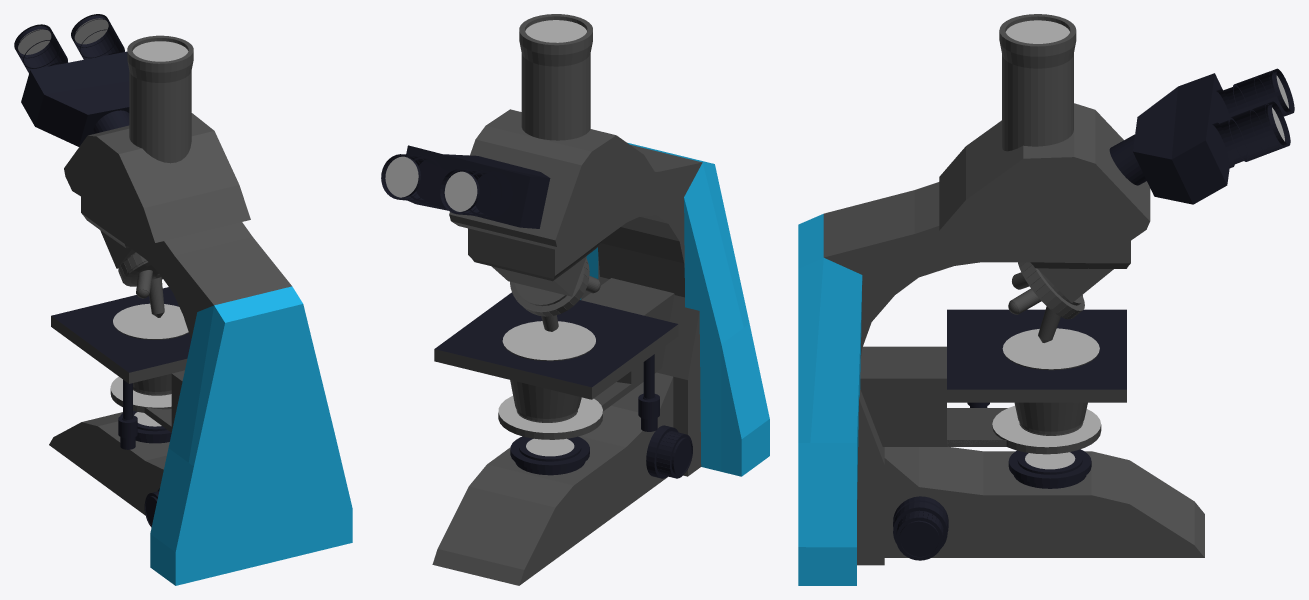
Rendered from microcospio.fbx.
The picture shows the model from 3 angles, left to right: view 1: azimuth 30°, elevation 25°; view 2: azimuth 150°, elevation 25°; view 3: azimuth 270°, elevation 25°; orthographic projection. The views are drawn at different scales.
Visible parts, largest first — view 1: Cube, Plane, Cube.001, Cube.002, Cylinder.003, Cylinder, Cube.003; view 2: Cube, Cube.001, Plane, Cube.002, Cylinder, Cylinder.004, Cylinder.003; view 3: Cube, Cube.001, Plane, Cylinder.004, Cube.002, Cylinder.
Boxes of the visible parts, x1,y1,x2,y2 form: Cube: (49, 35, 352, 585); Plane: (14, 14, 129, 146); Cube.001: (51, 287, 191, 432); Cube.002: (100, 230, 162, 286); Cylinder.003: (118, 380, 137, 449); Cylinder: (120, 411, 171, 443); Cube.003: (149, 277, 164, 317); Cube: (432, 14, 769, 585); Cube.001: (434, 278, 678, 439); Plane: (381, 145, 550, 228); Cube.002: (492, 256, 589, 316); Cylinder: (510, 436, 589, 475); Cylinder.004: (646, 425, 692, 478); Cylinder.003: (638, 354, 659, 431); Cube: (798, 14, 1204, 585); Cube.001: (860, 309, 1126, 454); Plane: (1109, 68, 1294, 204); Cylinder.004: (893, 496, 948, 560); Cube.002: (1018, 262, 1113, 319); Cylinder: (1008, 449, 1091, 488).
Bounding box in the file's own units: 4101 × 9704 × 8626.
